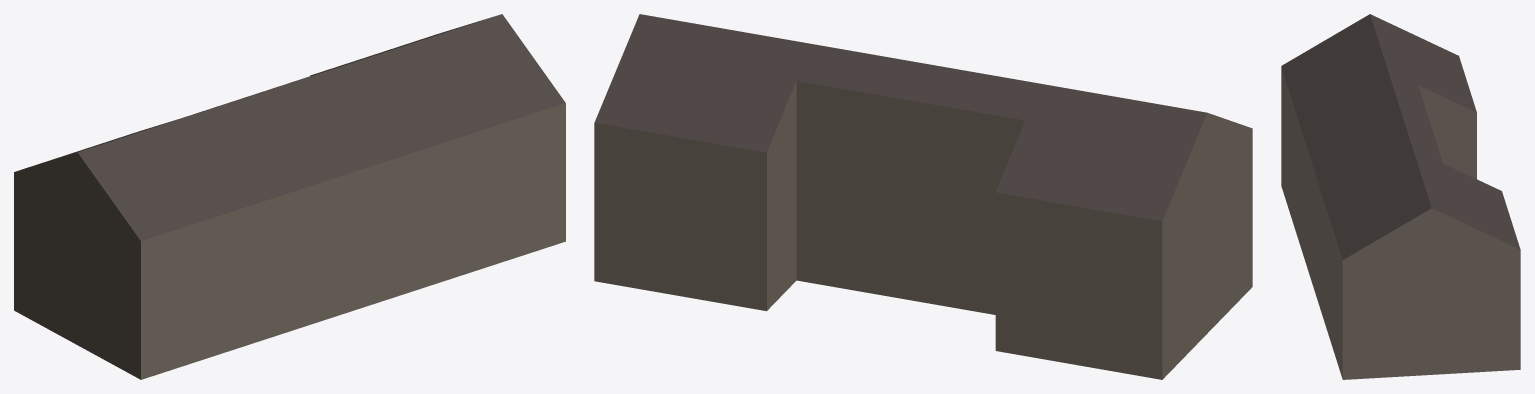
3 renders of one model, left to right at view 1: azimuth 30°, elevation 25°; view 2: azimuth 150°, elevation 25°; view 3: azimuth 270°, elevation 25°, orthographic. The views are drawn at different scales.
Visible parts, largest first — view 1: HP-w859488881; view 2: HP-w859488881; view 3: HP-w859488881.
Boxes of the visible parts, x1,y1,x2,y2 form: HP-w859488881: [14, 14, 565, 379]; HP-w859488881: [594, 14, 1252, 379]; HP-w859488881: [1281, 14, 1520, 379].
Size of the model in its own units: 32.94 by 12.53 by 16.31.
